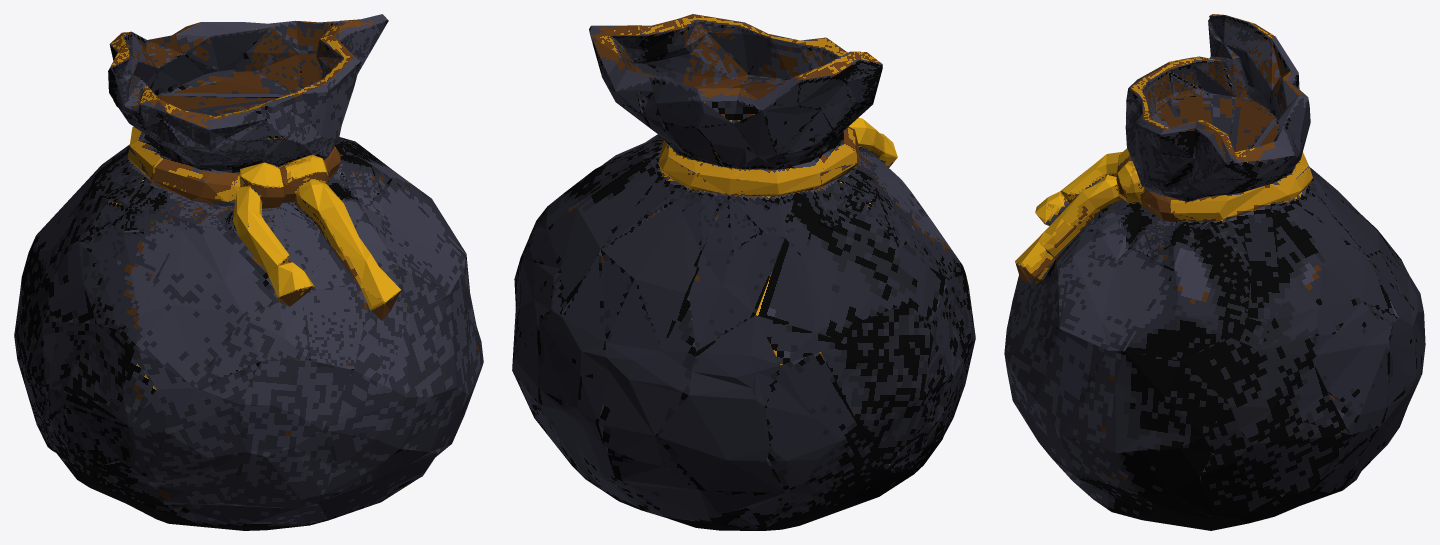
The picture shows the model from 3 angles, left to right: view 1: azimuth 30°, elevation 25°; view 2: azimuth 150°, elevation 25°; view 3: azimuth 270°, elevation 25°; orthographic projection. The views are drawn at different scales.
Parts seen in each view (by area): view 1: OBJ08f; view 2: OBJ08f; view 3: OBJ08f.
Part boxes in pixels (x1,y1,x2,y2): OBJ08f: (14,14,483,530); OBJ08f: (512,14,975,530); OBJ08f: (1004,14,1425,530).
Size of the model in its own units: 0.2961 by 0.3243 by 0.2897.
1 material, 1 textured.
